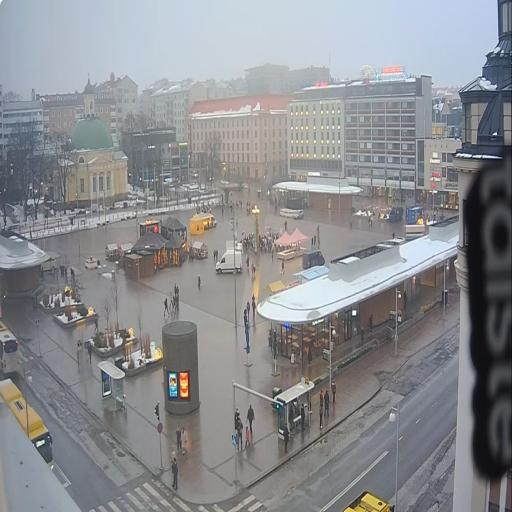Bus: (0, 378, 53, 467), (0, 321, 19, 375), (343, 492, 390, 511)
